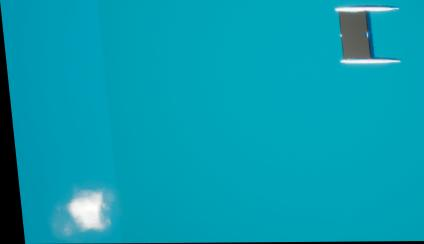boat: (333, 4, 402, 67)
drone: (339, 12, 370, 60)
land_base: (36, 182, 119, 243)
